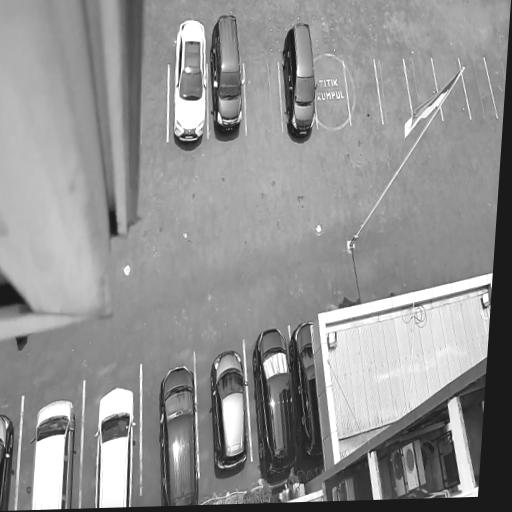Car: (237, 324, 305, 500), (277, 311, 335, 484), (148, 360, 209, 507), (161, 11, 216, 165), (197, 345, 260, 479), (87, 379, 147, 508), (273, 2, 326, 148), (202, 5, 249, 164), (23, 395, 83, 510), (0, 406, 19, 512)
Space Available: (344, 57, 384, 124), (375, 57, 414, 125), (246, 61, 281, 134), (314, 59, 350, 128), (432, 55, 470, 120), (459, 56, 497, 121), (404, 56, 442, 119), (143, 69, 168, 143), (484, 55, 507, 120)
